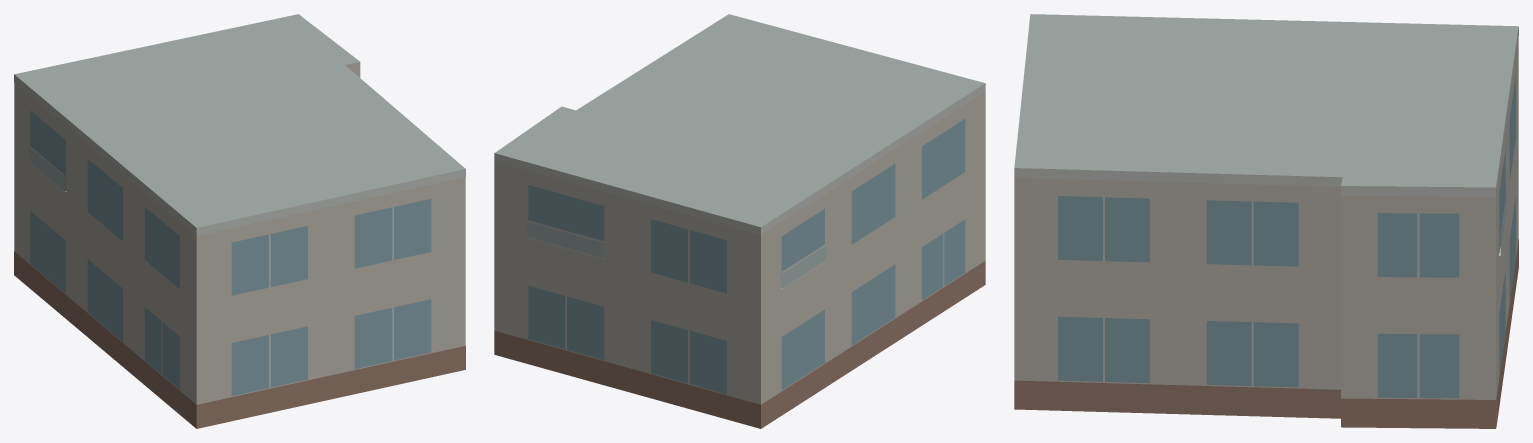
Rendered from survey-upis-32849205.glb.
3 views of the same model, side by side, from view 1: azimuth 30°, elevation 25°; view 2: azimuth 150°, elevation 25°; view 3: azimuth 270°, elevation 25° (orthographic). The views are drawn at different scales.
Parts seen in each view (by area): view 1: survey-upis-32849205.tmp; view 2: survey-upis-32849205.tmp; view 3: survey-upis-32849205.tmp.
Boxes of the visible parts, box(x1,y1,x2,y2) form: survey-upis-32849205.tmp: box(14, 14, 465, 428); survey-upis-32849205.tmp: box(494, 14, 985, 428); survey-upis-32849205.tmp: box(1014, 14, 1518, 428).
Size of the model in its own units: 9.41 by 6.1 by 11.56.
